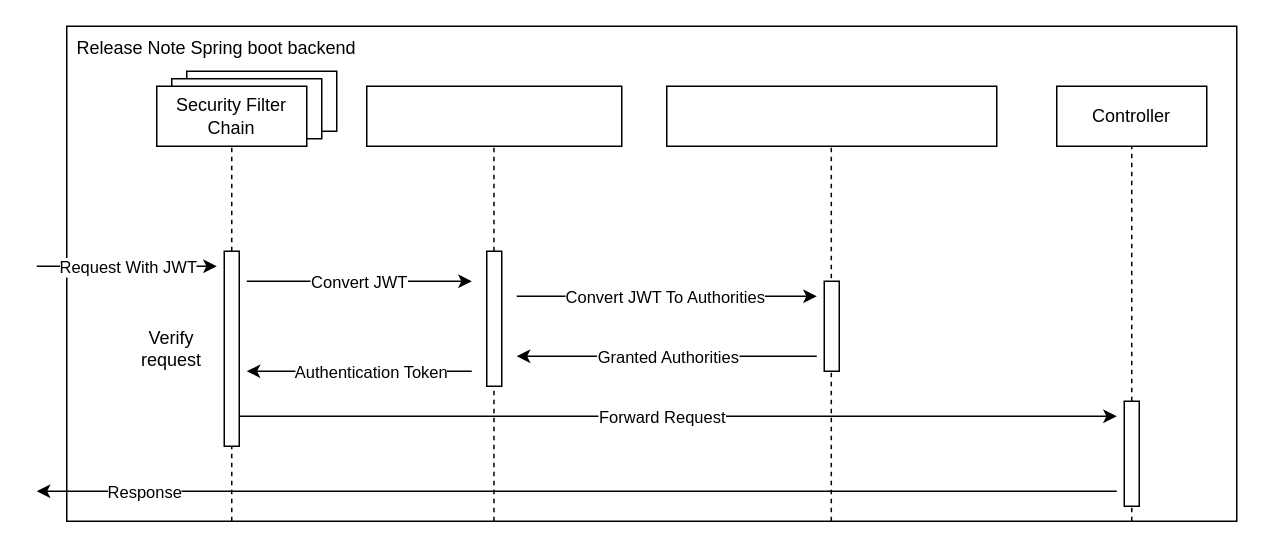
Image size: 1263x549. Some labels were removed from this diagram. The box of each missing label's shape, as (x1, y1, x2, y2) in pixels:
JwtAuthenticationConverter: (365, 85, 622, 146)
JwtRolesGrantedAuthoritiesConverter: (665, 85, 997, 146)
